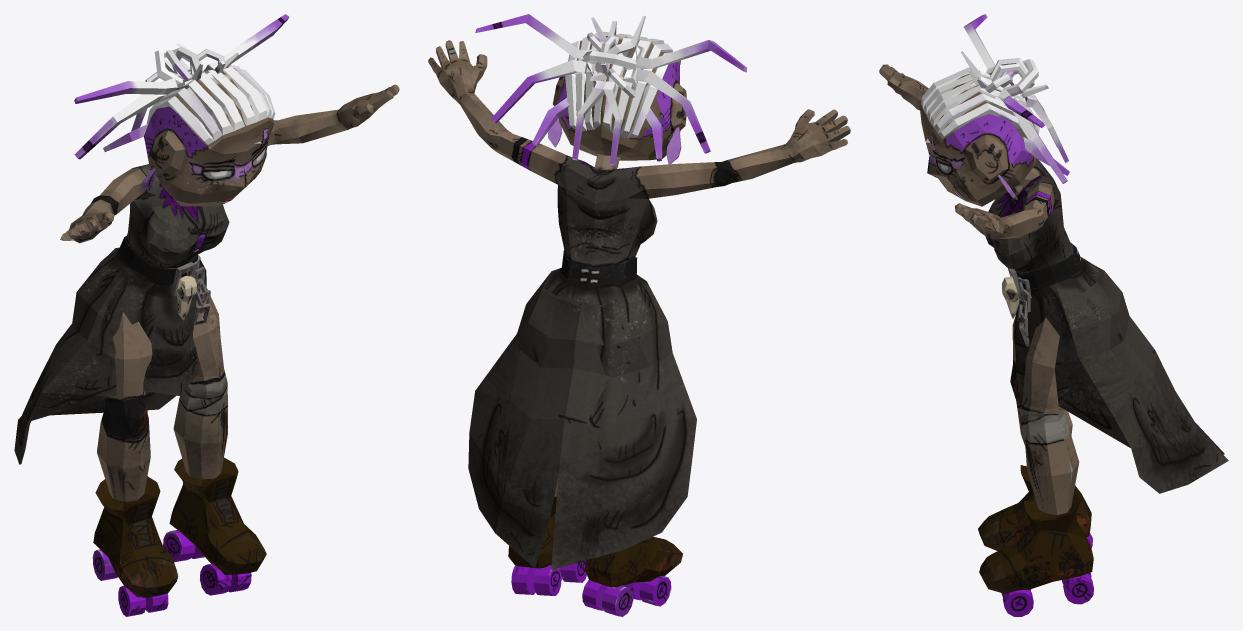
File: bruja_000135.obj
3 views of the same model, side by side, from view 1: azimuth 30°, elevation 25°; view 2: azimuth 150°, elevation 25°; view 3: azimuth 270°, elevation 25° (orthographic). The views are drawn at different scales.
Parts seen in each view (by area): view 1: Bruja_Plane.001; view 2: Bruja_Plane.001; view 3: Bruja_Plane.001.
Boxes of the visible parts, x1=… form: Bruja_Plane.001: x1=14, y1=14, x2=399, y2=616; Bruja_Plane.001: x1=428, y1=14, x2=850, y2=616; Bruja_Plane.001: x1=879, y1=14, x2=1228, y2=616.
Size of the model in its own units: 11.36 by 16.19 by 9.61.
